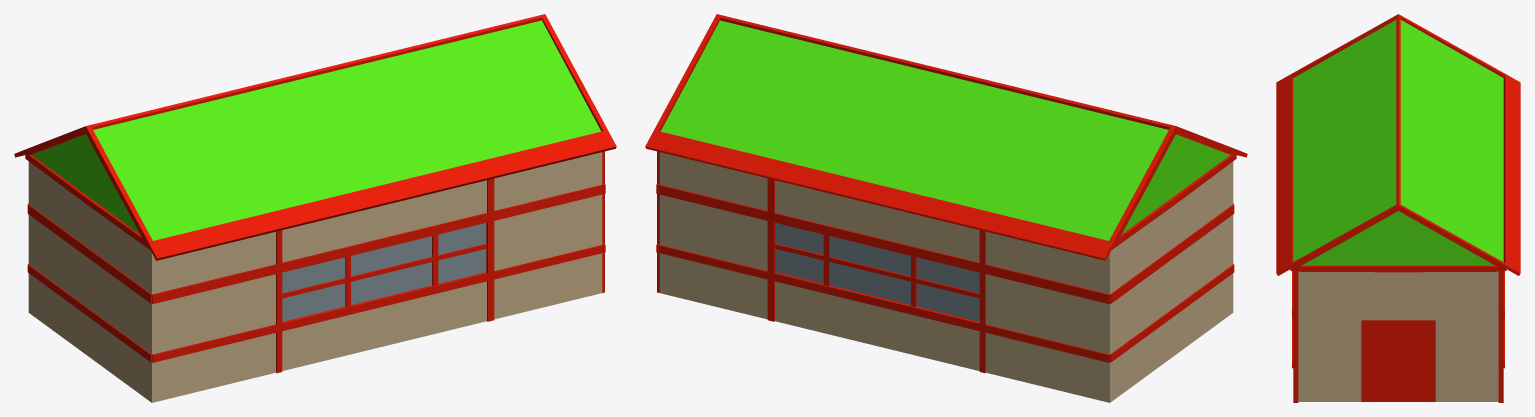
The model's file is Casa.fbx.
3 views of the same model, side by side, from view 1: azimuth 30°, elevation 25°; view 2: azimuth 150°, elevation 25°; view 3: azimuth 270°, elevation 25° (orthographic). The views are drawn at different scales.
Visible parts, largest first — view 1: House; view 2: House; view 3: House.
Part boxes in pixels (x1=…): House: x1=14, y1=14, x2=616, y2=402; House: x1=645, y1=14, x2=1247, y2=402; House: x1=1276, y1=14, x2=1520, y2=402.
Bounding box in the file's own units: 1821 × 882 × 982.
